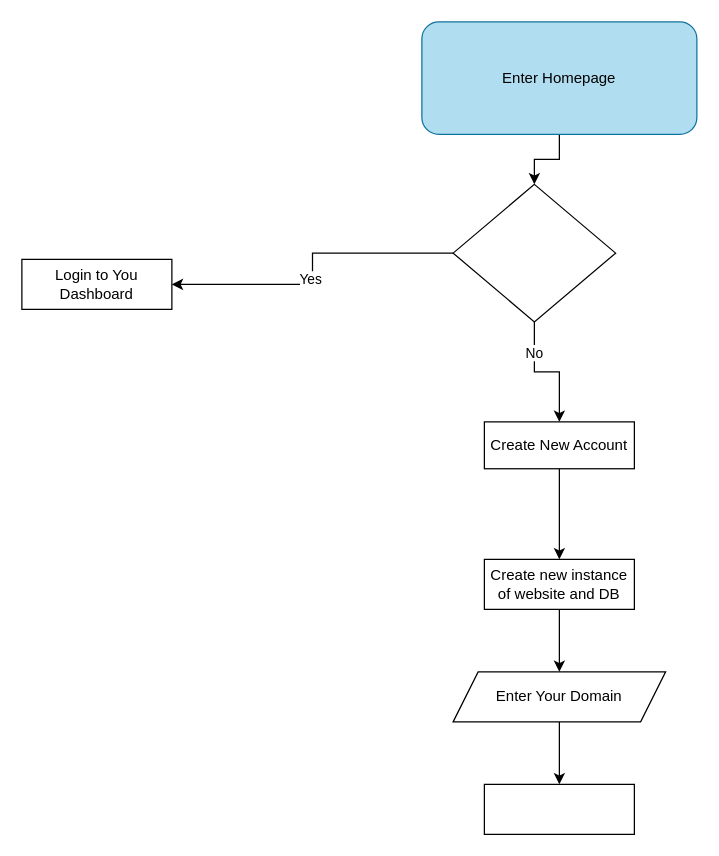
The diagram is 719 pixels wide and 856 high, and some of its shapes have lost their labels. The shapes that lost their labels are listed below. From the top down, each one's centre as x and y in pixels, then its label:
pixel 534 252: Do You Have Store
pixel 558 808: Link Doamin to Website
